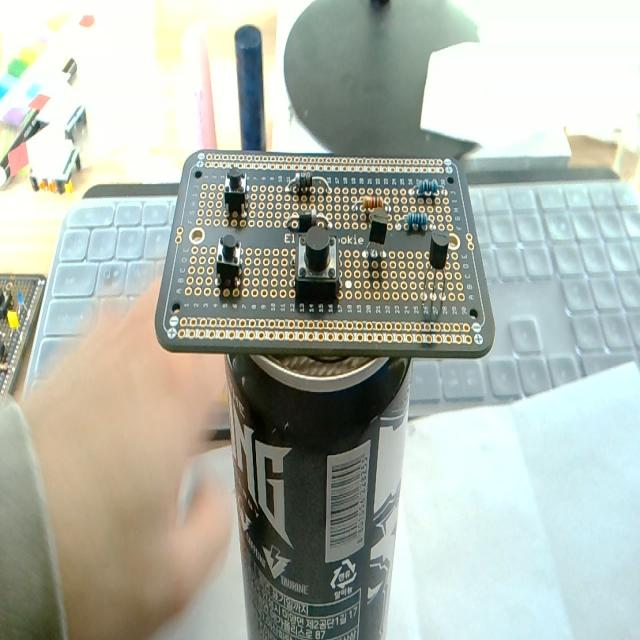diode: (284, 168, 338, 201), (281, 202, 334, 232)
resistor: (405, 177, 453, 201), (351, 190, 393, 212), (398, 210, 434, 233)
switch: (294, 226, 342, 308), (215, 227, 243, 284), (223, 162, 250, 212)
transistor: (423, 231, 449, 307), (366, 212, 387, 264)
